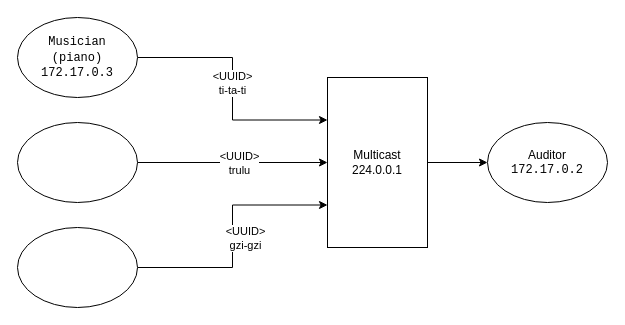
Some shapes in this 625 by 325 pixel diagram are drawn without their labels. Here are the shapes that lost their labels. From the top down, the centre of each, then its label:
the point at 77,162: Musician (flute) 172.17.0.4
the point at 77,267: Musician (violin) 172.17.0.5
